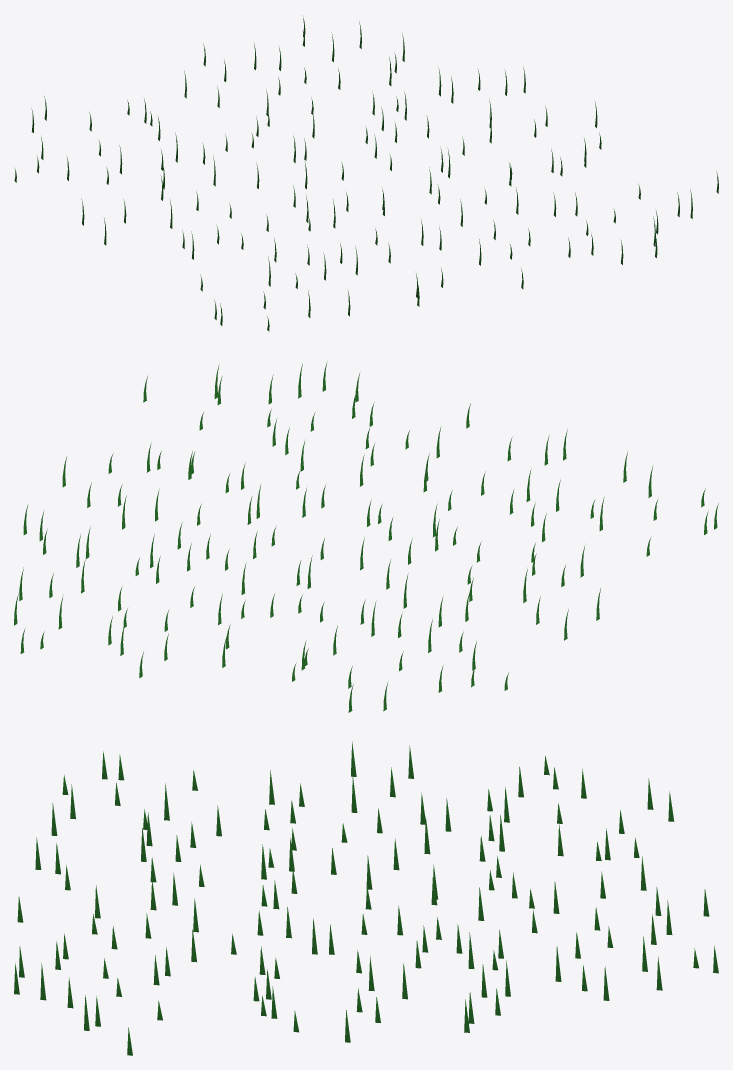
Rendered from grass_patch_set_C_ori.fbx.
The picture shows the model from 3 angles, top to bottom: view 1: azimuth 30°, elevation 25°; view 2: azimuth 150°, elevation 25°; view 3: azimuth 270°, elevation 25°; orthographic projection. The views are drawn at different scales.
Bounding box in the file's own units: 864 × 54.08 × 912.
